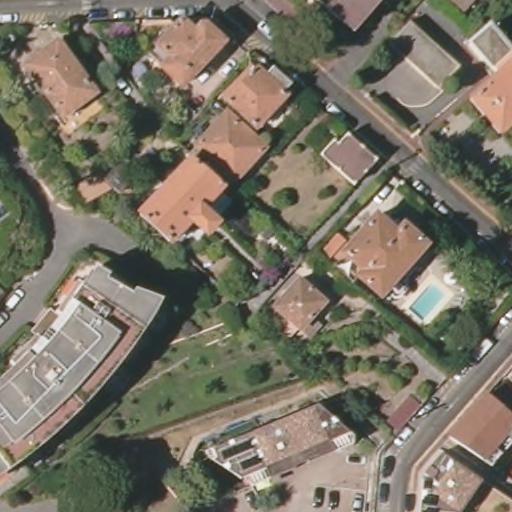pool: (410, 285, 443, 317)
